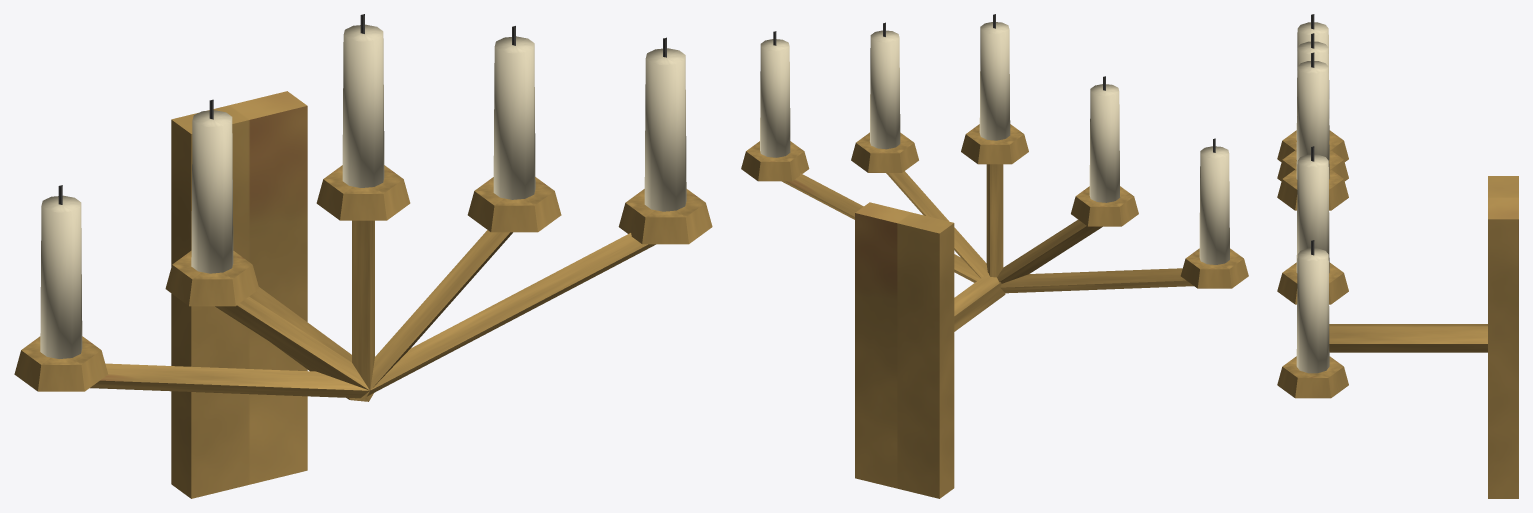
File: Sconce_Candle_5.gltf
3 views of the same model, side by side, from view 1: azimuth 30°, elevation 25°; view 2: azimuth 150°, elevation 25°; view 3: azimuth 270°, elevation 25° (orthographic). The views are drawn at different scales.
Visible parts, largest first — view 1: Sconce_Candle_5; view 2: Sconce_Candle_5; view 3: Sconce_Candle_5.
Part boxes in pixels (x1,y1,x2,y2): Sconce_Candle_5: [14, 14, 712, 498]; Sconce_Candle_5: [741, 14, 1248, 498]; Sconce_Candle_5: [1277, 14, 1518, 498].
Bounding box in the file's own units: 0.5806 × 0.455 × 0.235.
3 materials, 3 textured.
